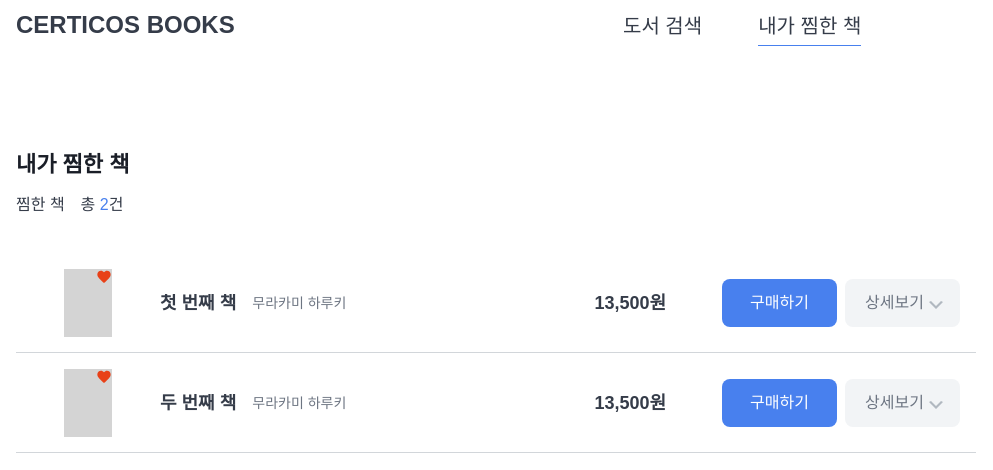
Scenario: 찜하기 › 찜 페이지에서 찜을 해제하면 바로 목록에서 빠지고 포커스는 다음 책의 하트로 옮긴다
This screenshot has width=993, height=470.
Click the button named "첫 번째 책 찜하기" at (104, 277), box 92,265 -> 116,289
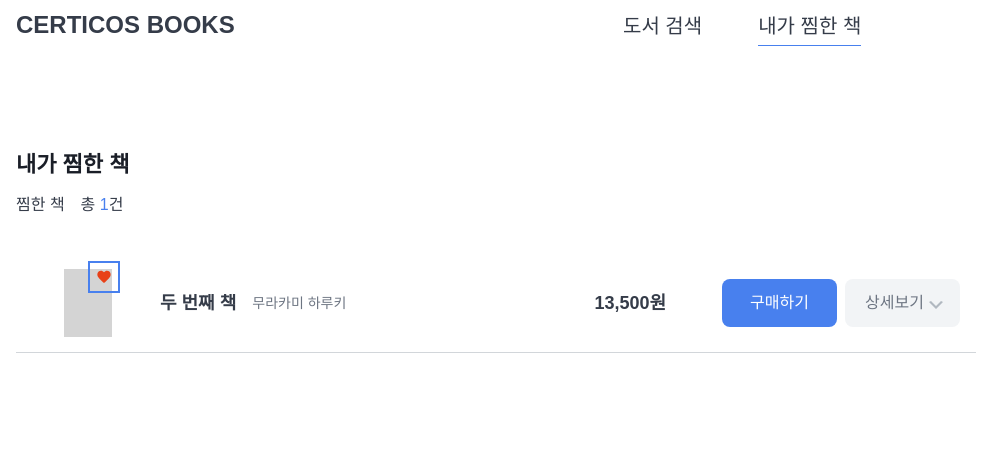
Expected: the heading "첫 번째 책" is gone
Expected: the message reads "찜한 책 총 1건", 16,196 -> 123,213
